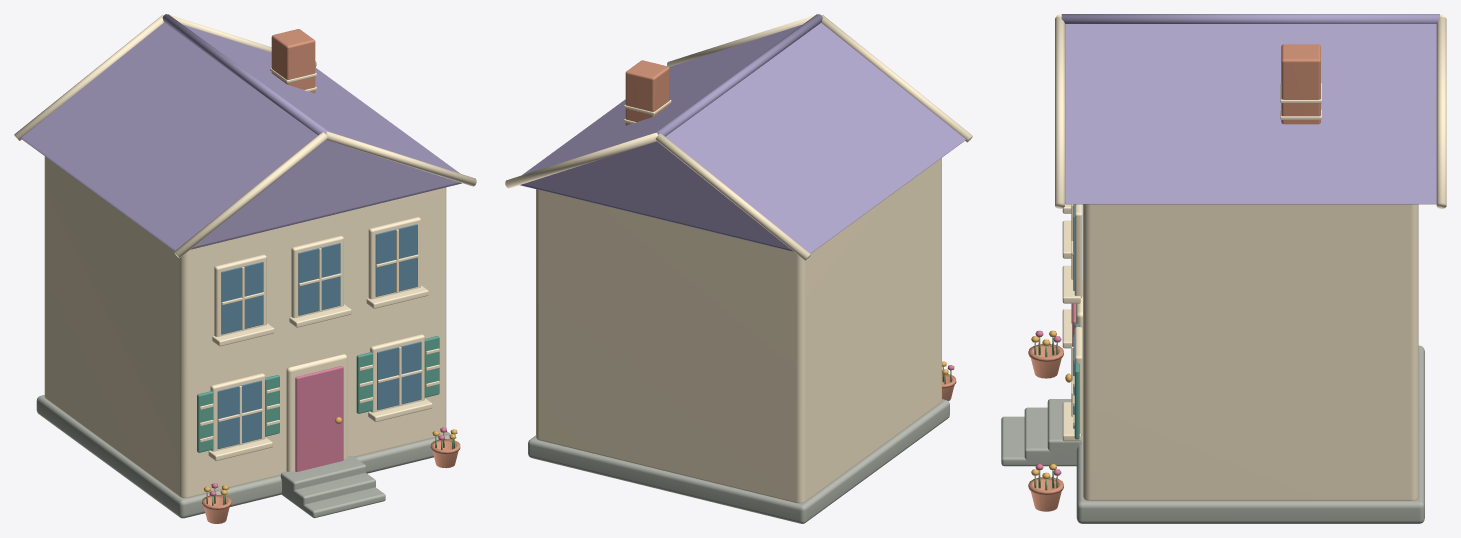
The model's file is Dormer_house.fbx.
3 renders of one model, left to right at view 1: azimuth 30°, elevation 25°; view 2: azimuth 150°, elevation 25°; view 3: azimuth 270°, elevation 25°, orthographic. The views are drawn at different scales.
Parts seen in each view (by area): view 1: Town_Dormer_house Plaster walls.001, Town_Dormer_house Gabled roof.001, Town_Dormer_house Foundation.001, Town_Dormer_house Front door.001, Town_Dormer_house Window glass.007, Town_Dormer_house Window glass.008, Town_Dormer_house Window glass.009, Town_Dormer_house Window glass.006, Town_Dormer_house Window glass.005, Town_Dormer_house Chimney.001, Town_Dormer_house Door frame.001, Town_Dormer_house Ridge cap.001 (+23 smaller); view 2: Town_Dormer_house Plaster walls.001, Town_Dormer_house Gabled roof.001, Town_Dormer_house Foundation.001, Town_Dormer_house Chimney.001, Town_Dormer_house Ridge cap.001, Town_Dormer_house Roof fascia.006, Town_Dormer_house Roof fascia.007, Town_Dormer_house Roof fascia.004, Town_Dormer_house Roof fascia.005; view 3: Town_Dormer_house Plaster walls.001, Town_Dormer_house Gabled roof.001, Town_Dormer_house Foundation.001, Town_Dormer_house Ridge cap.001, Town_Dormer_house Chimney.001, Town_Dormer_house Roof fascia.007, Town_Dormer_house Roof fascia.005, Town_Dormer_house Entry steps.004, Town_Dormer_house Entry steps.003, Town_Dormer_house Entry steps.005, Town_Dormer_house Terracotta pot.002, Town_Dormer_house Terracotta pot.003 (+2 smaller).
Boxes of the visible parts, box(x1,y1,x2,y2) form: Town_Dormer_house Plaster walls.001: box(44, 156, 446, 497); Town_Dormer_house Gabled roof.001: box(21, 23, 461, 250); Town_Dormer_house Foundation.001: box(36, 395, 451, 518); Town_Dormer_house Front door.001: box(295, 366, 343, 471); Town_Dormer_house Window glass.007: box(221, 262, 263, 334); Town_Dormer_house Window glass.008: box(298, 243, 340, 315); Town_Dormer_house Window glass.009: box(375, 224, 417, 296); Town_Dormer_house Window glass.006: box(377, 341, 421, 409); Town_Dormer_house Window glass.005: box(217, 380, 261, 448); Town_Dormer_house Chimney.001: box(271, 29, 315, 93); Town_Dormer_house Door frame.001: box(286, 354, 347, 471); Town_Dormer_house Ridge cap.001: box(162, 14, 327, 135); Town_Dormer_house Plaster walls.001: box(536, 158, 941, 503); Town_Dormer_house Gabled roof.001: box(520, 23, 965, 253); Town_Dormer_house Foundation.001: box(528, 399, 949, 523); Town_Dormer_house Chimney.001: box(625, 60, 669, 125); Town_Dormer_house Ridge cap.001: box(655, 14, 822, 136); Town_Dormer_house Roof fascia.006: box(655, 133, 810, 260); Town_Dormer_house Roof fascia.007: box(505, 132, 657, 188); Town_Dormer_house Roof fascia.004: box(821, 15, 972, 142); Town_Dormer_house Roof fascia.005: box(667, 14, 820, 66); Town_Dormer_house Plaster walls.001: box(1083, 204, 1418, 500); Town_Dormer_house Gabled roof.001: box(1065, 24, 1436, 204); Town_Dormer_house Foundation.001: box(1076, 345, 1424, 523); Town_Dormer_house Ridge cap.001: box(1061, 14, 1439, 23); Town_Dormer_house Chimney.001: box(1281, 44, 1320, 124); Town_Dormer_house Roof fascia.007: box(1436, 16, 1446, 208); Town_Dormer_house Roof fascia.005: box(1055, 16, 1064, 208); Town_Dormer_house Entry steps.004: box(1024, 407, 1055, 466); Town_Dormer_house Entry steps.003: box(1047, 399, 1081, 466); Town_Dormer_house Entry steps.005: box(1001, 416, 1031, 466); Town_Dormer_house Terracotta pot.002: box(1028, 344, 1063, 378); Town_Dormer_house Terracotta pot.003: box(1028, 477, 1063, 511).
Bounding box in the file's own units: 678 × 785 × 729.
